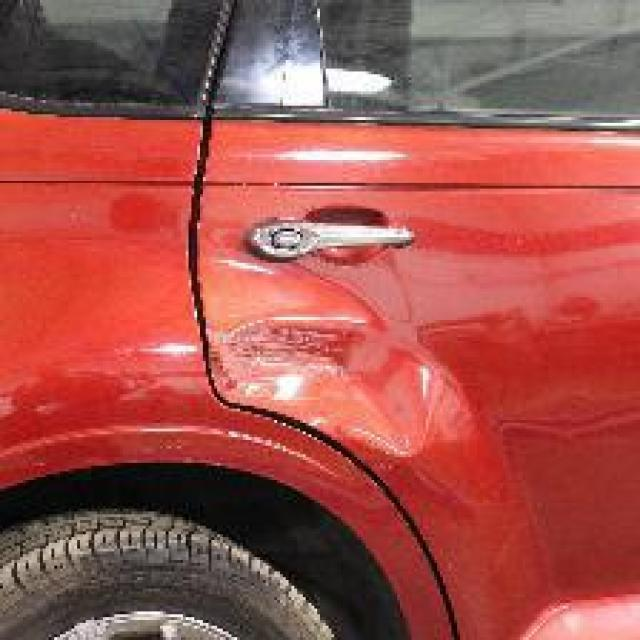damaged: (166, 255, 494, 494)
